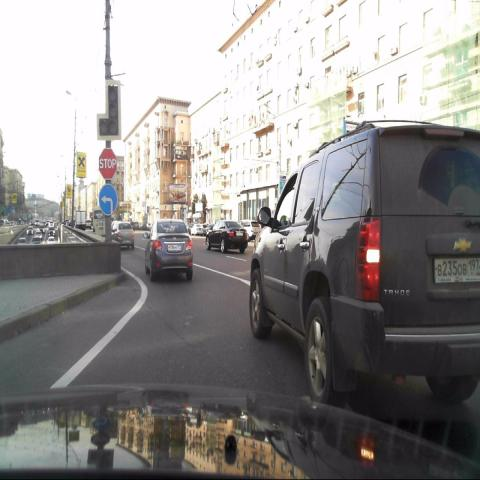2_5: (97, 147, 117, 181)
4_1_3: (98, 182, 118, 217)
